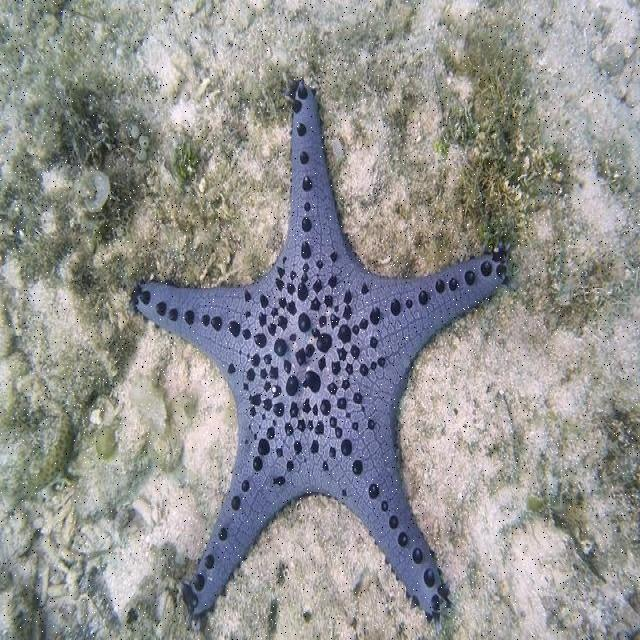reefs: (133, 82, 507, 622)
